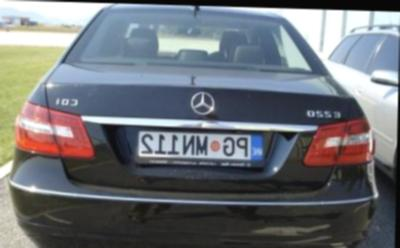License_Plate: (135, 131, 264, 167)
